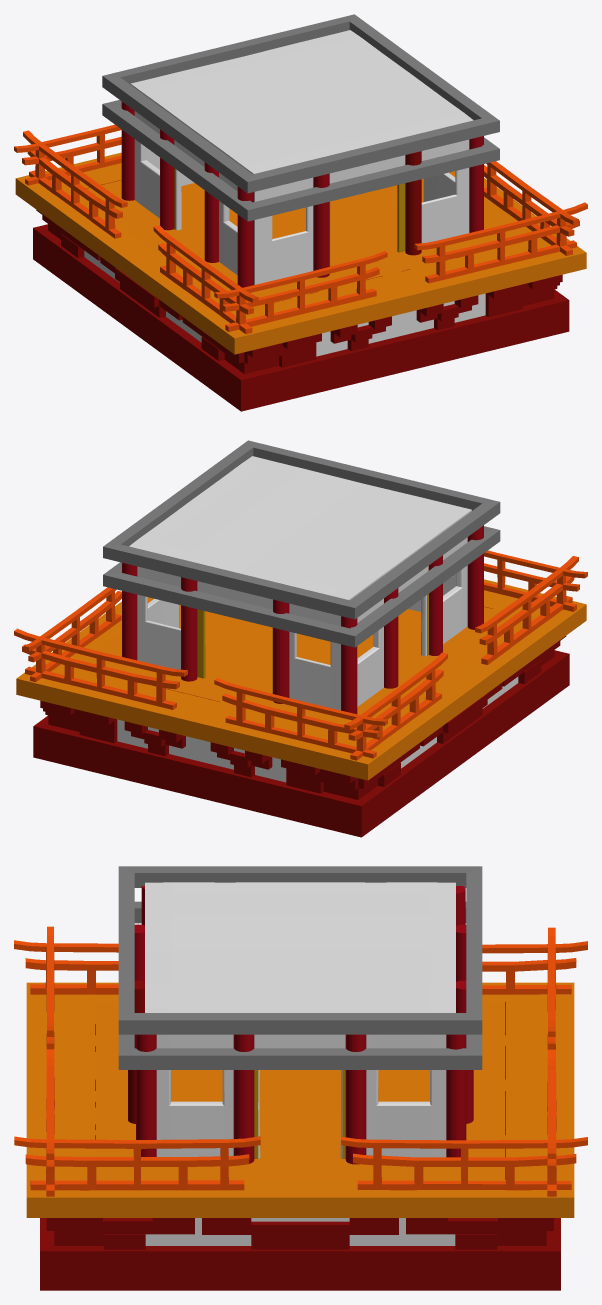
3 renders of one model, top to bottom at view 1: azimuth 30°, elevation 25°; view 2: azimuth 150°, elevation 25°; view 3: azimuth 270°, elevation 25°, orthographic. The views are drawn at different scales.
Parts seen in each view (by area): view 1: Cube.008; view 2: Cube.008; view 3: Cube.008.
Part boxes in pixels (x1,y1,x2,y2): Cube.008: [14, 14, 587, 411]; Cube.008: [14, 440, 587, 837]; Cube.008: [14, 866, 587, 1290].
Size of the model in its own units: 388 by 197 by 415.
